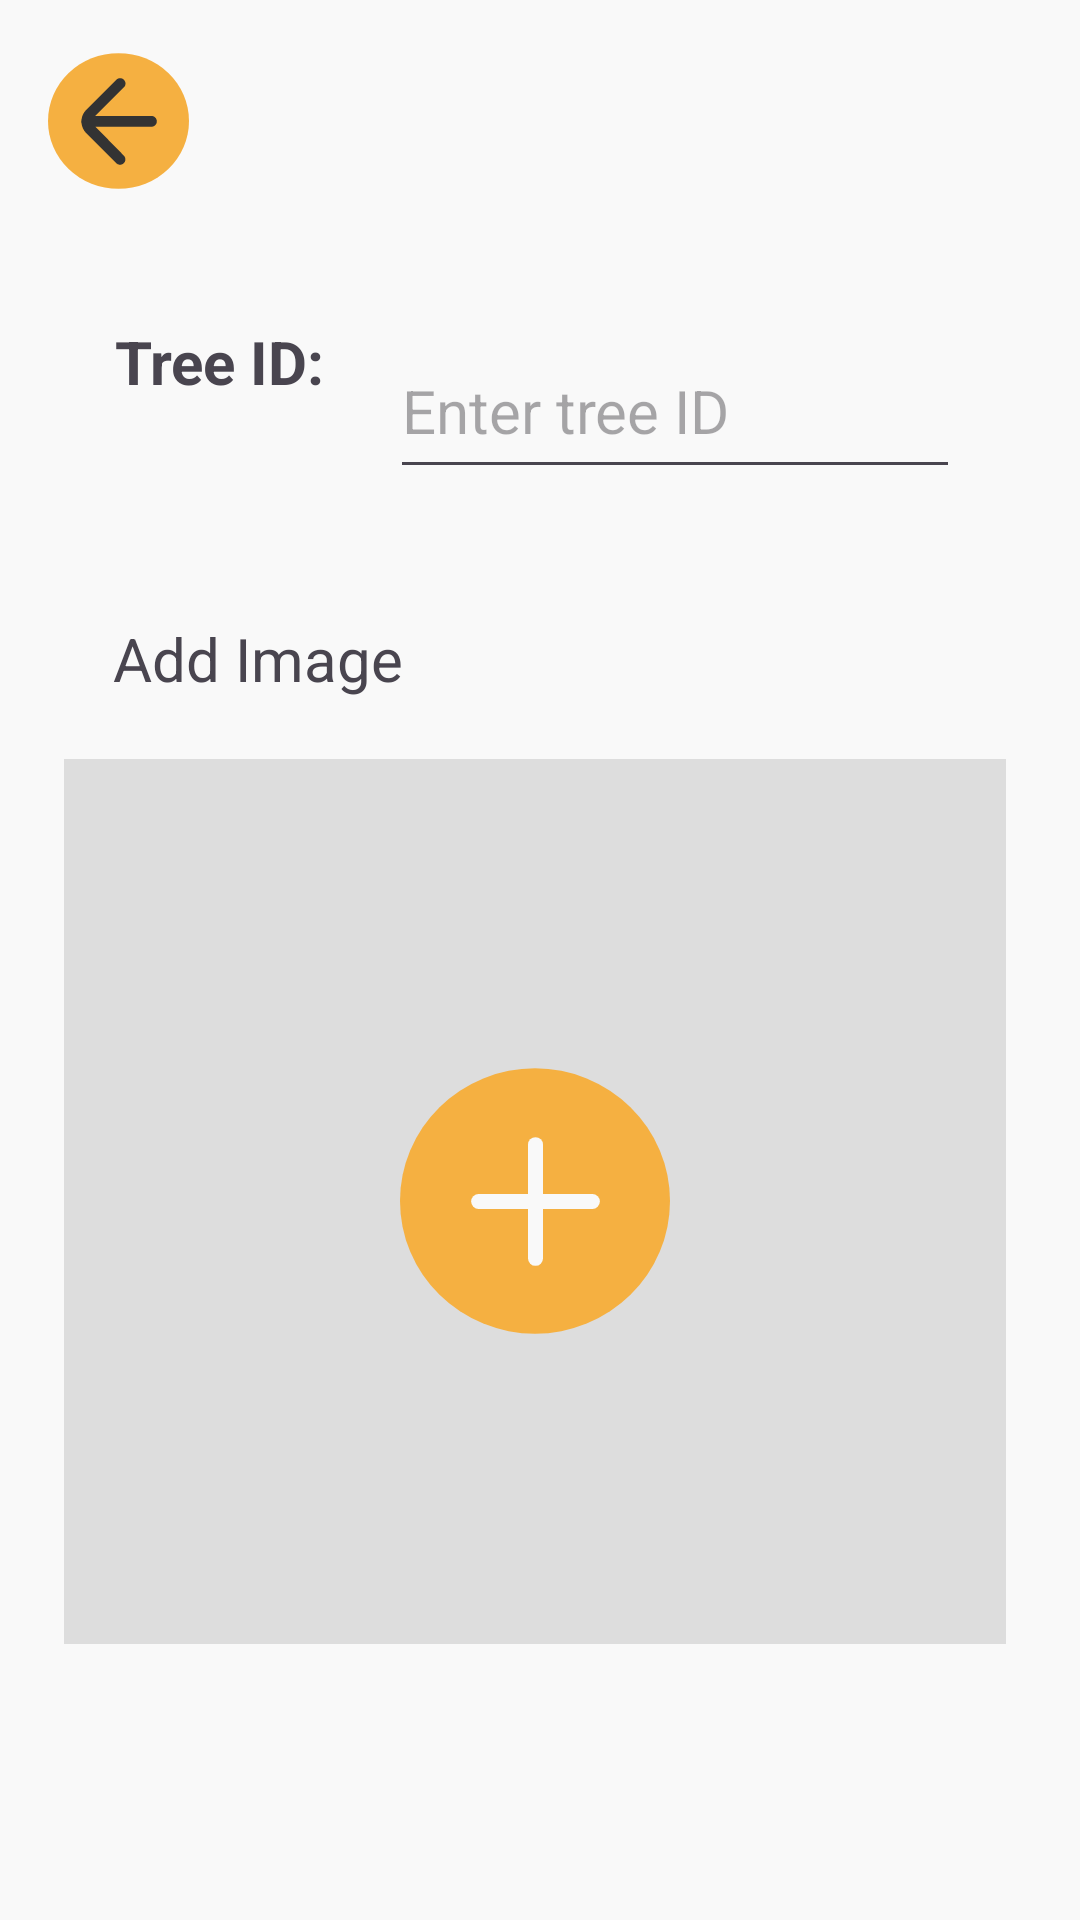

Screen size 1080w x 1920h. Icon name, then its box in pixels as (x1, y1, x2, y2):
add: (400, 1068, 670, 1334)
back arrow: (48, 53, 189, 189)
